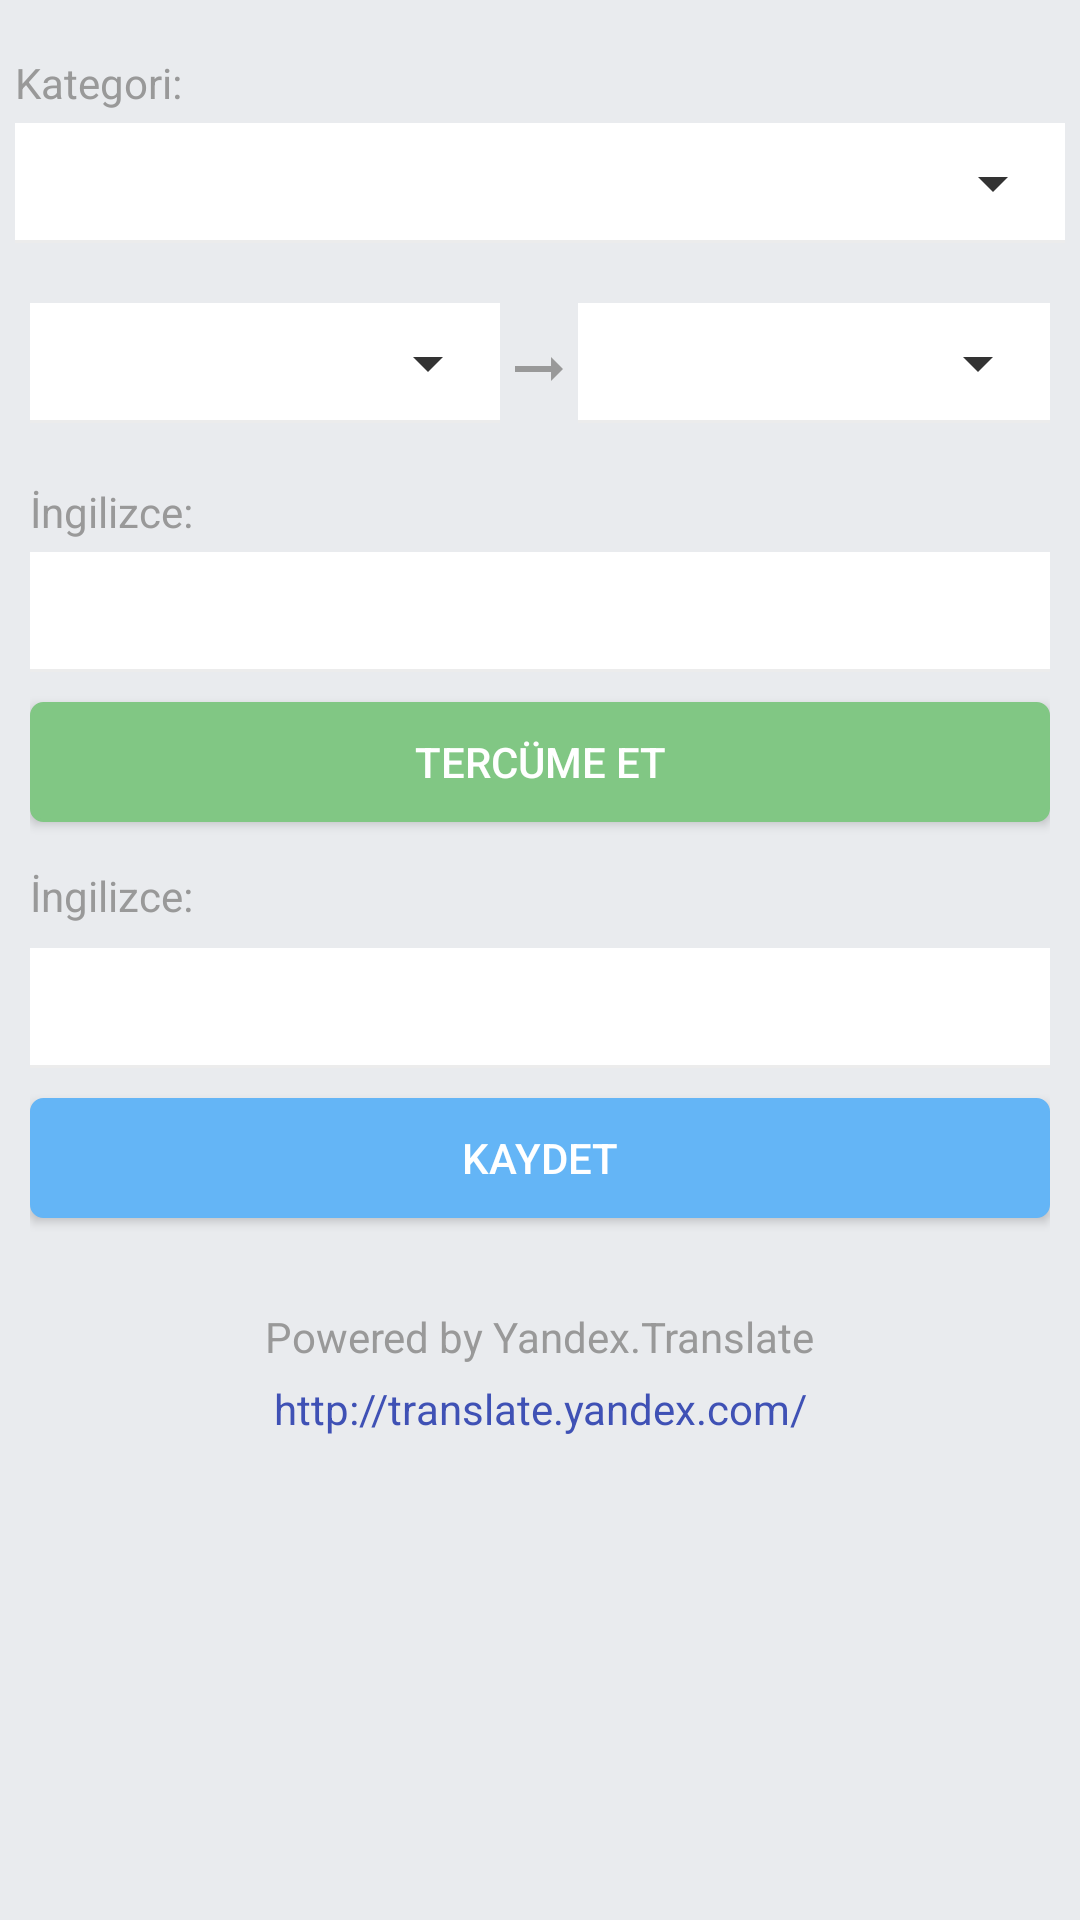

Icon bounding boxes for this 1080px x 1920px phone screenshot, format (x1, y1, x2, y2):
long arrow right: (515, 357, 563, 381)
